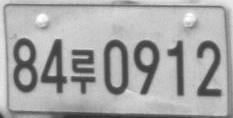0: (102, 38, 129, 96)
1: (164, 39, 193, 96)
2: (195, 39, 222, 97)
4: (40, 37, 67, 94)
8: (11, 37, 38, 93)
9: (133, 39, 161, 96)
루: (70, 48, 96, 94)
